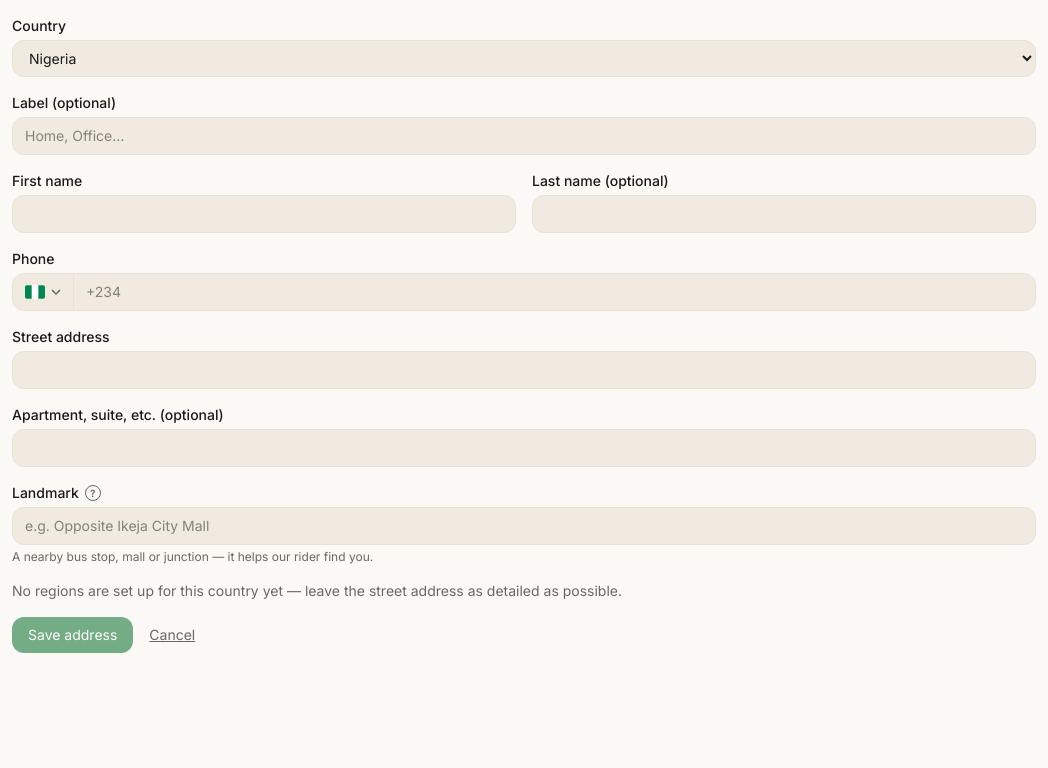
Test: AddressForm › renders a 400 field error beside its field on create
expect the text "No regions are set up" is shown: met, box [12,582,622,599]
Type "Ada" into the field labelled "First name".
click(264, 214); type("Ada")  # box [12,195,516,233]
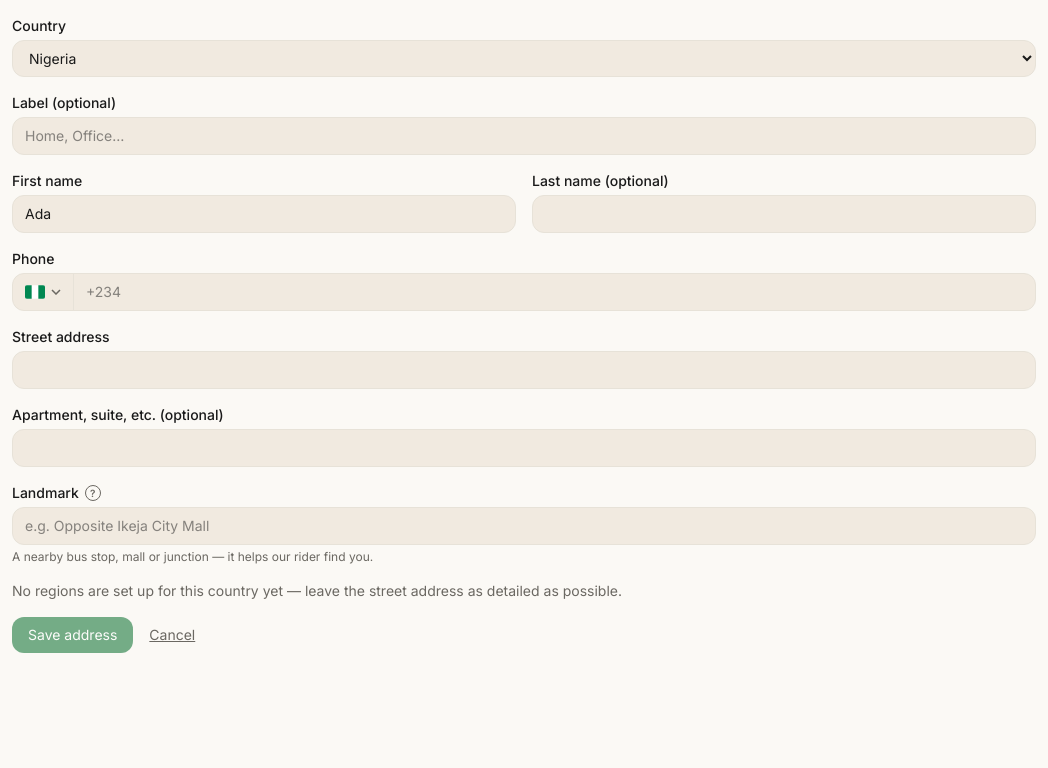
Type "+2348023900964" into the field labelled "Phone".
click(554, 292); type("+2348023900964")  # box [74,274,1035,310]
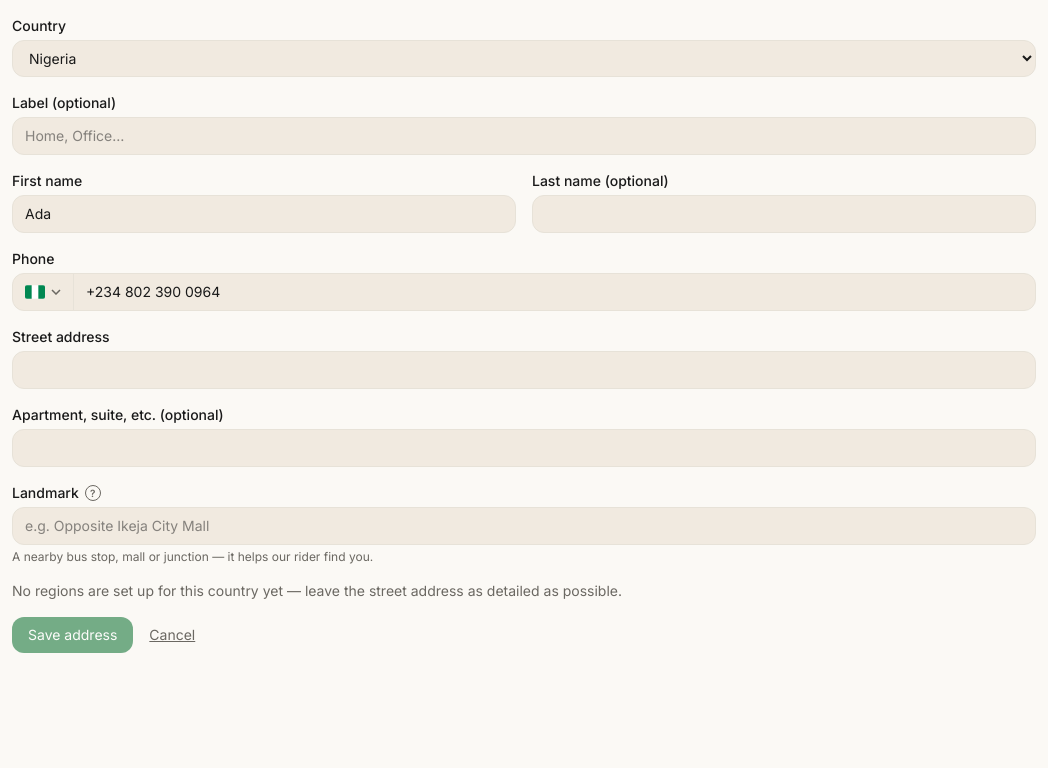
Type "x" into the dropdown labelled "Street address".
click(524, 370); type("x")  # box [12,351,1036,389]
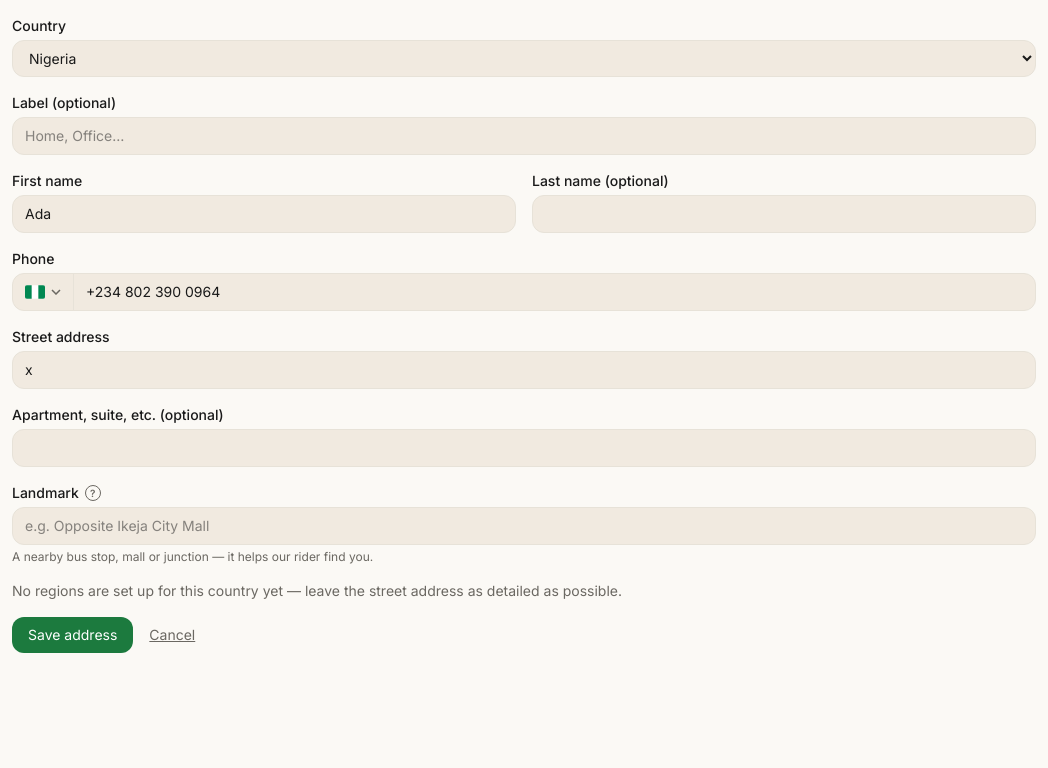
Click the button "Save address".
click(73, 635)  # box [12,617,133,653]
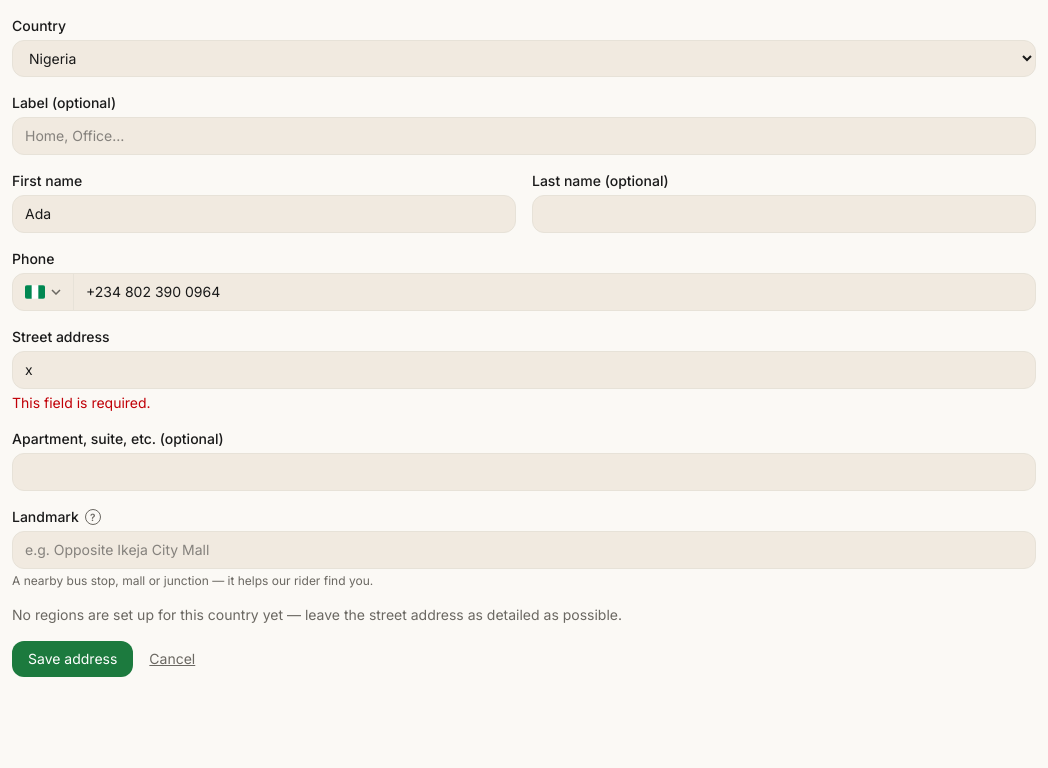
expect the text "This field is required." is shown: met, box [12,394,151,411]
